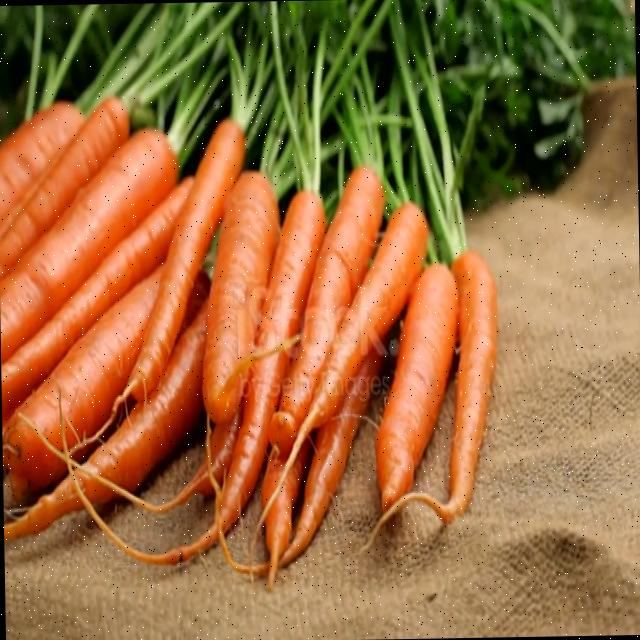carrot: (148, 192, 325, 564), (4, 302, 210, 538), (1, 178, 193, 420), (0, 129, 177, 361), (4, 267, 161, 507), (121, 119, 244, 400), (268, 171, 384, 456), (295, 203, 427, 447), (275, 319, 397, 570), (0, 97, 129, 278), (412, 250, 497, 522), (375, 263, 457, 511), (203, 176, 279, 423), (0, 102, 84, 221), (261, 431, 312, 583)
